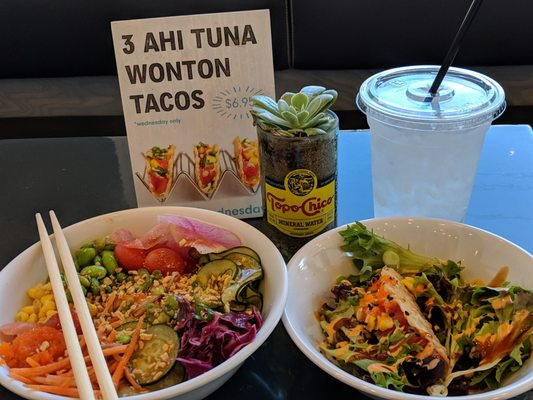sushi: (3, 205, 290, 399), (283, 219, 533, 400)
